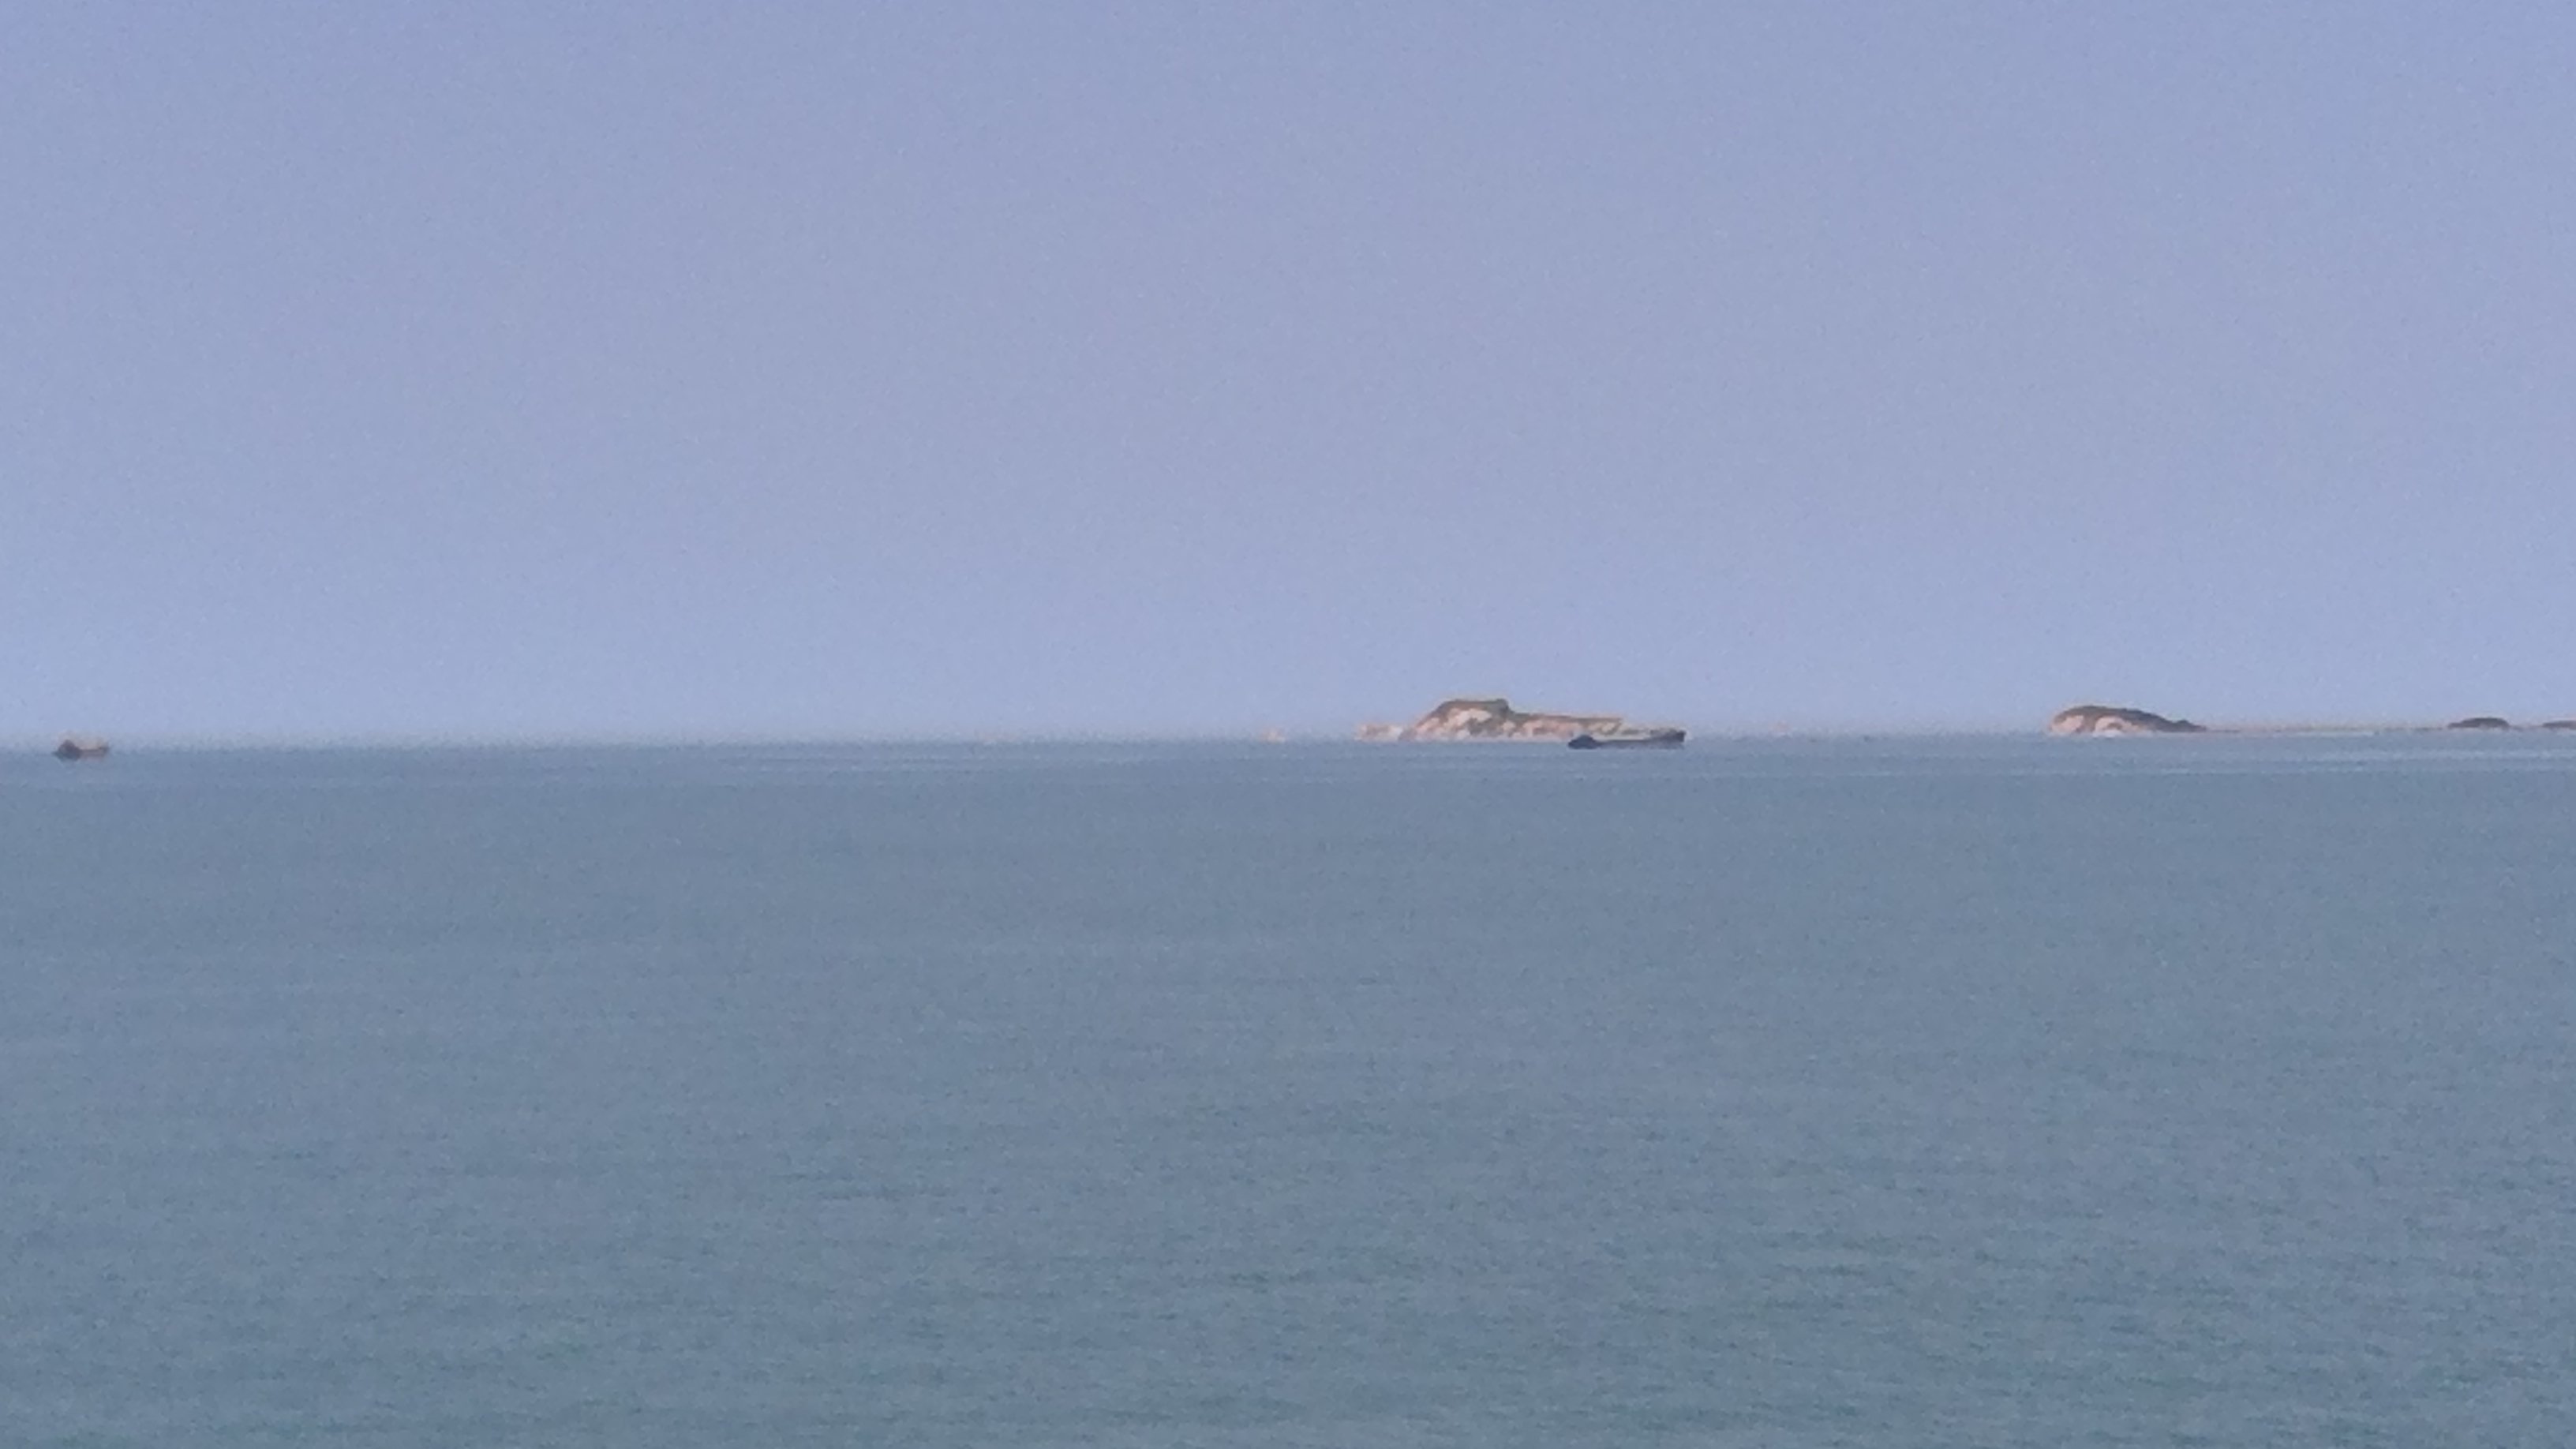rock: (1256, 656, 1707, 766), (2010, 679, 2224, 761)
